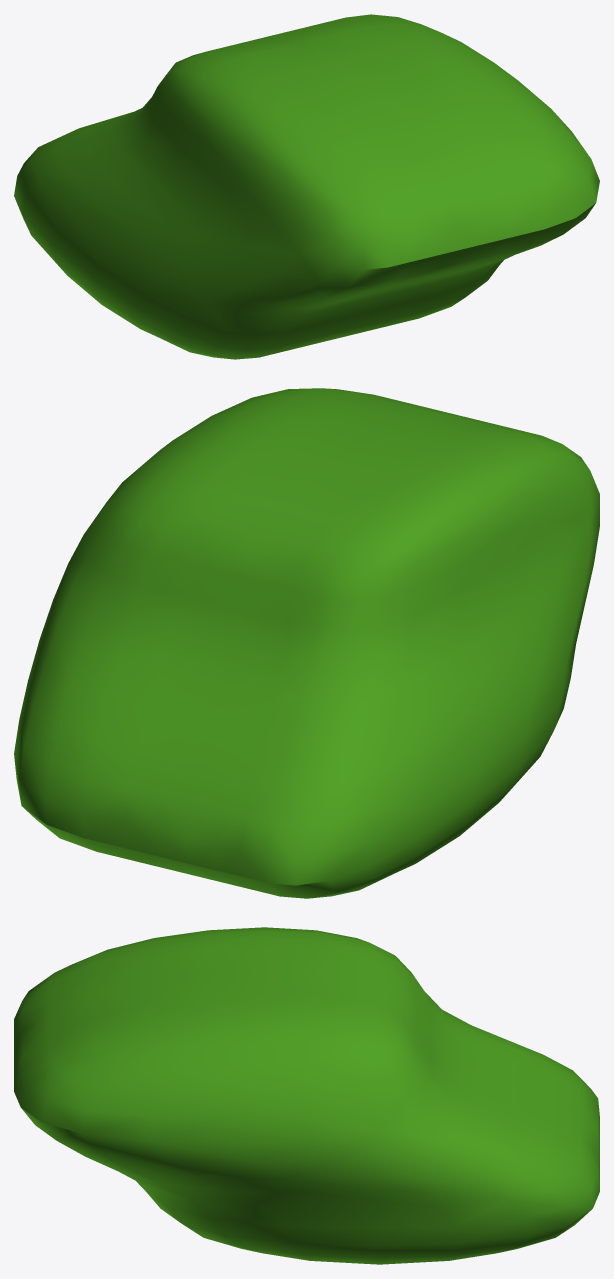
Rendered from Bush 6.fbx.
The picture shows the model from 3 angles, top to bottom: view 1: azimuth 30°, elevation 25°; view 2: azimuth 150°, elevation 25°; view 3: azimuth 270°, elevation 25°; orthographic projection. The views are drawn at different scales.
Parts seen in each view (by area): view 1: Cube; view 2: Cube; view 3: Cube.
Part boxes in pixels (x1,y1,x2,y2): Cube: (14, 14, 599, 359); Cube: (14, 388, 599, 898); Cube: (14, 927, 599, 1264).
Size of the model in its own units: 279 by 183 by 399.
